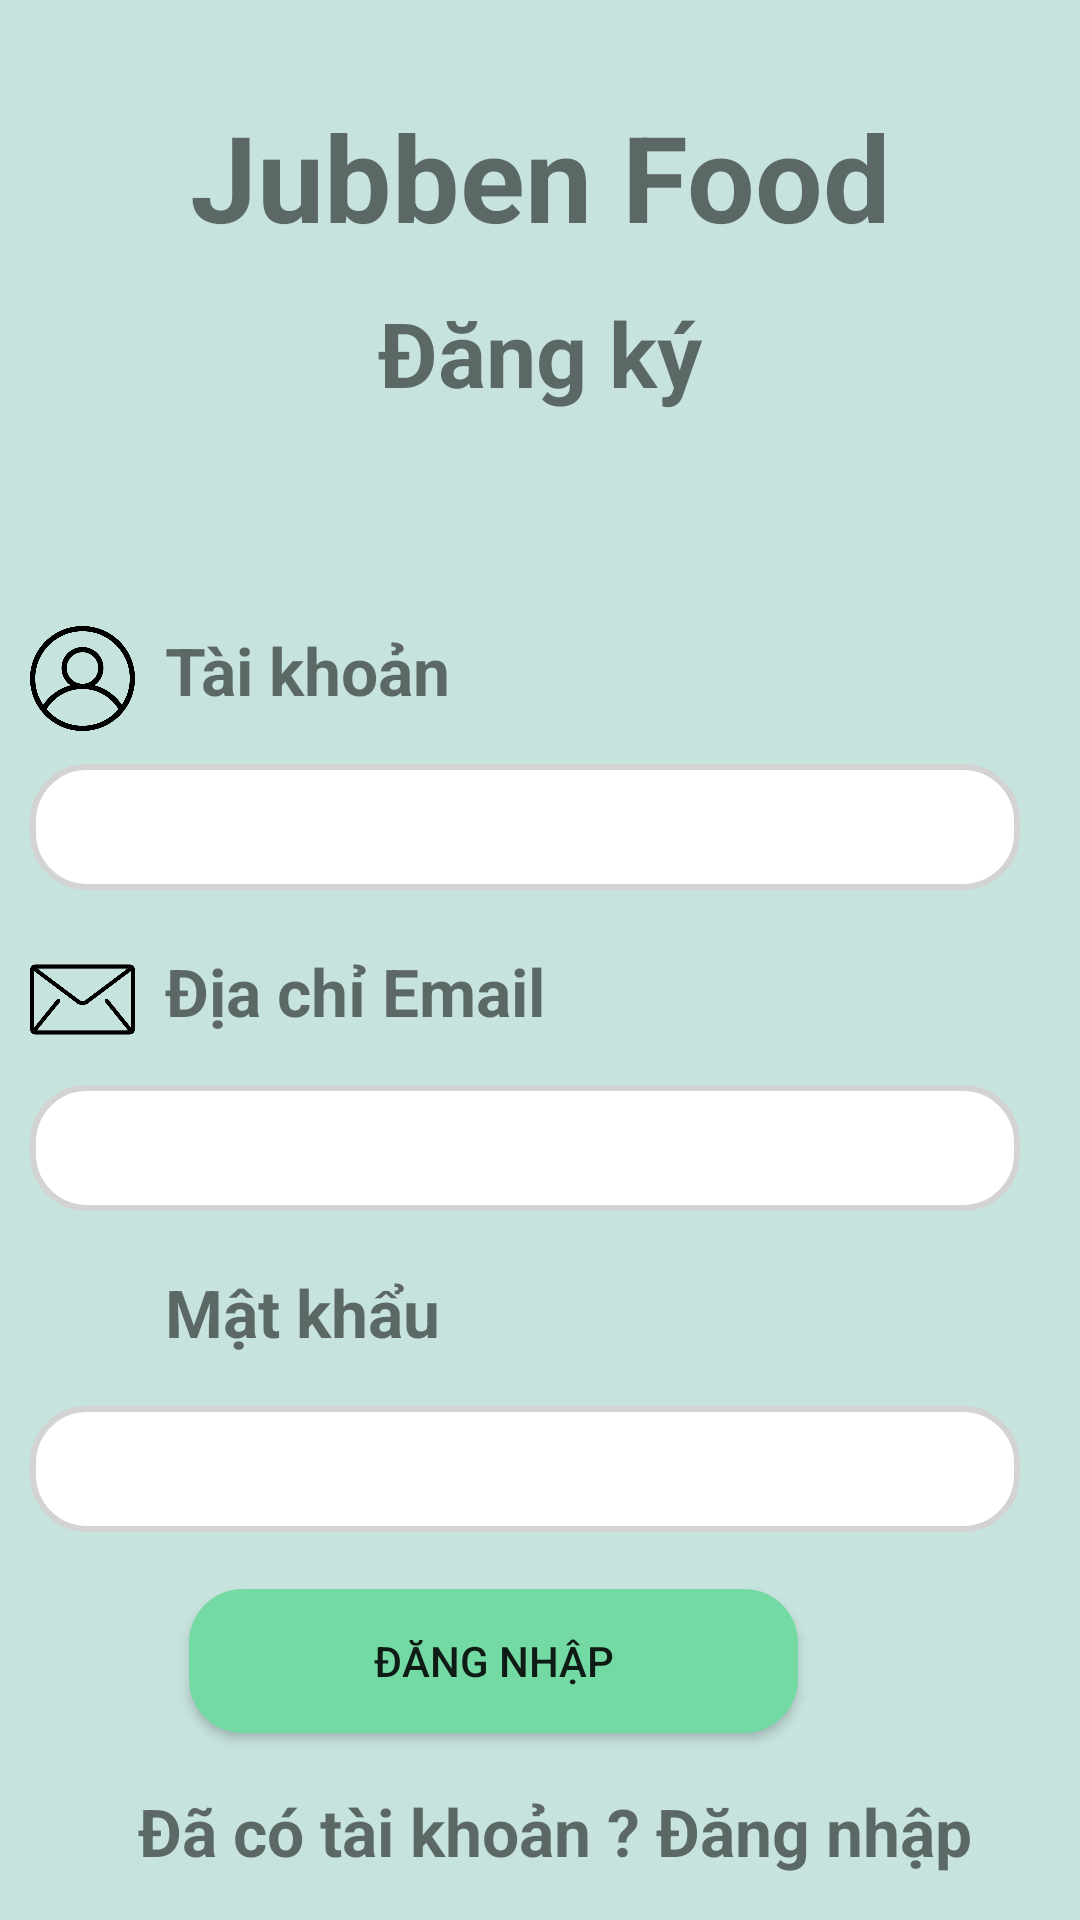

Icons on this 1080×1920 Android screen, each with its box as (x1, y1, x2, y2):
account: (30, 626, 135, 731)
